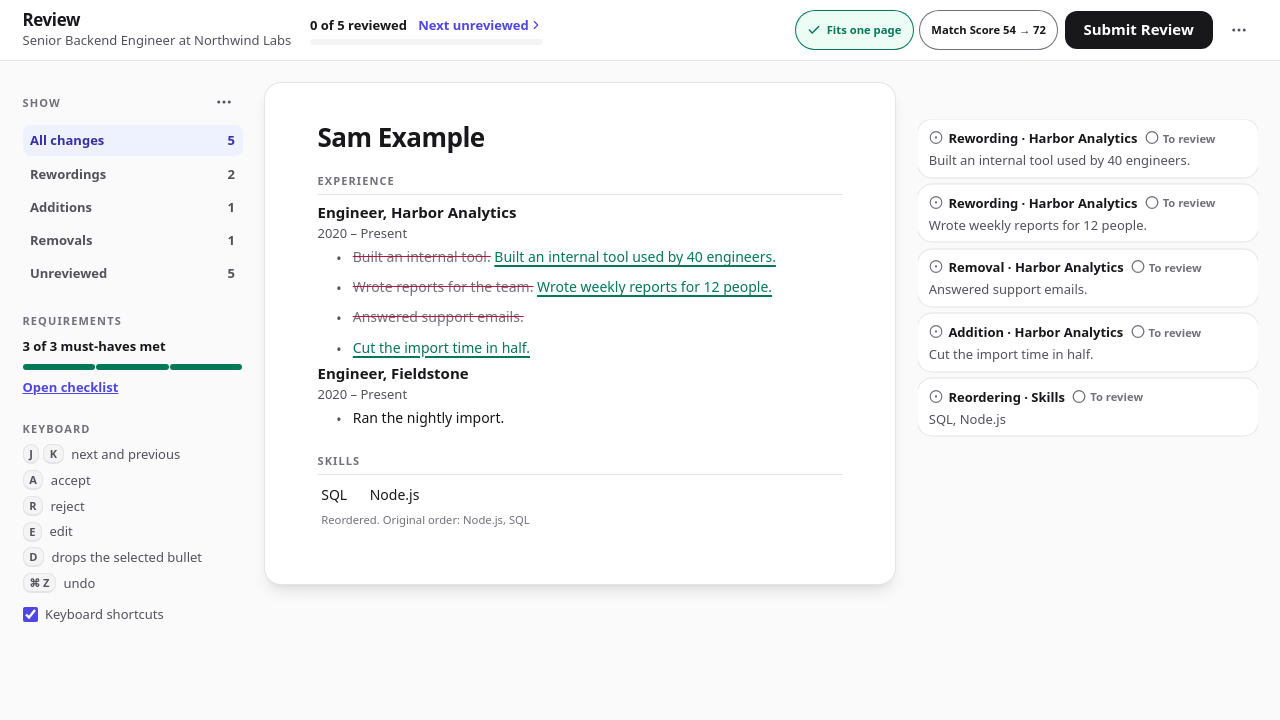
Test case: Review screen: the rail › accepts or rejects everything the filter shows, with an Undo toast
The image size is (1280, 720).
Click the button "Rewordings 2" at (132, 174), box x1=22 y1=158 x2=242 y2=189
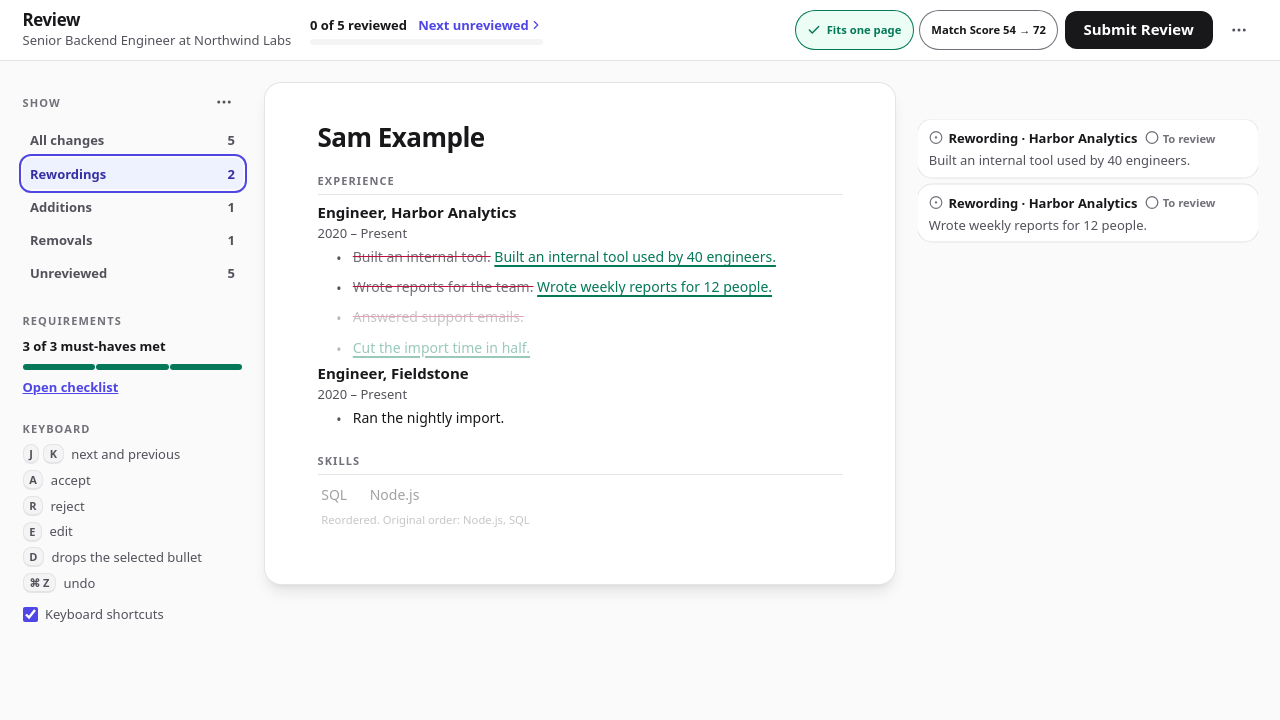
Click the button named "Bulk actions for this filter" at (224, 102), box x1=205 y1=84 x2=242 y2=121
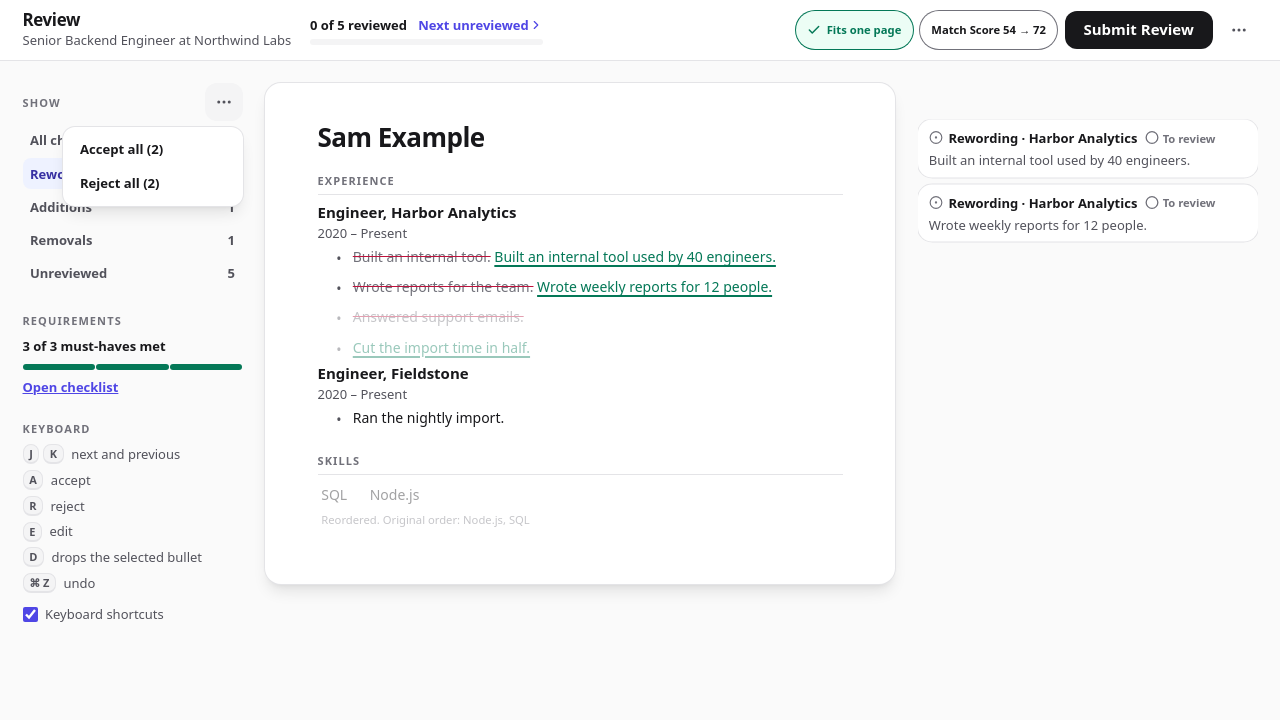
Click the menu item "Reject all (2)" at (120, 183), box x1=80 y1=174 x2=160 y2=192
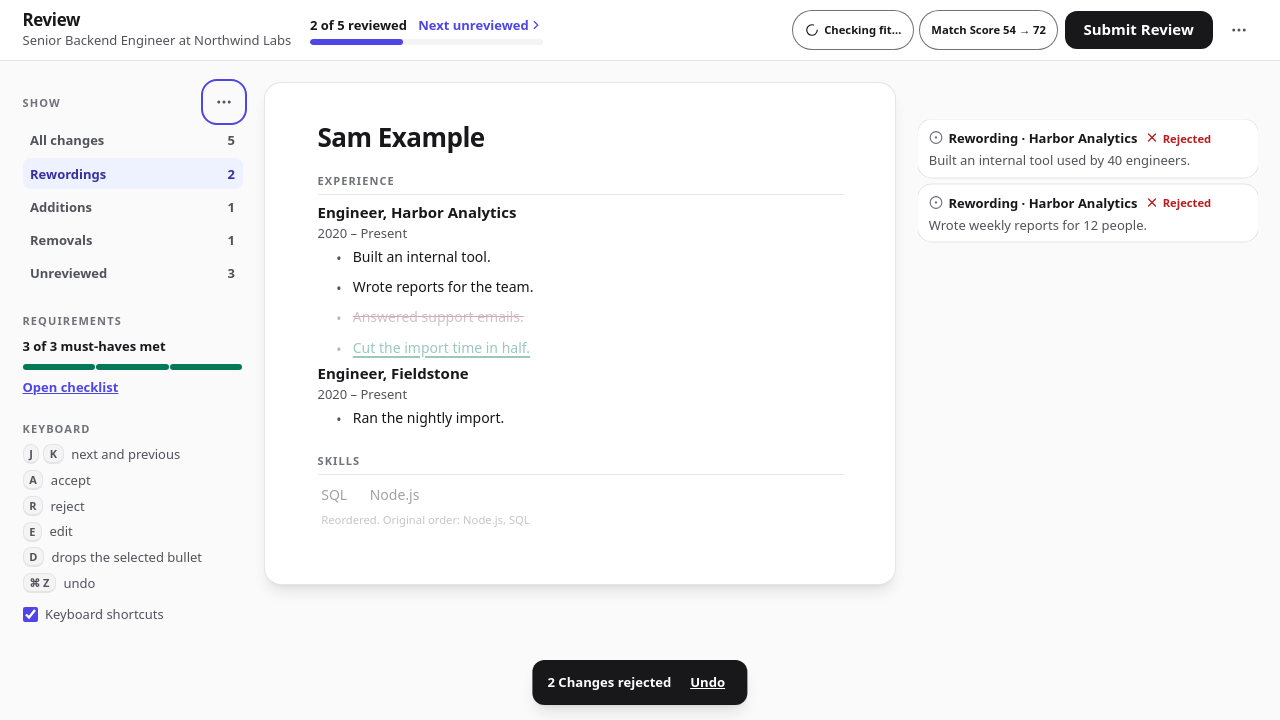
Click the button "All changes 5" at (132, 140), box x1=22 y1=125 x2=242 y2=156
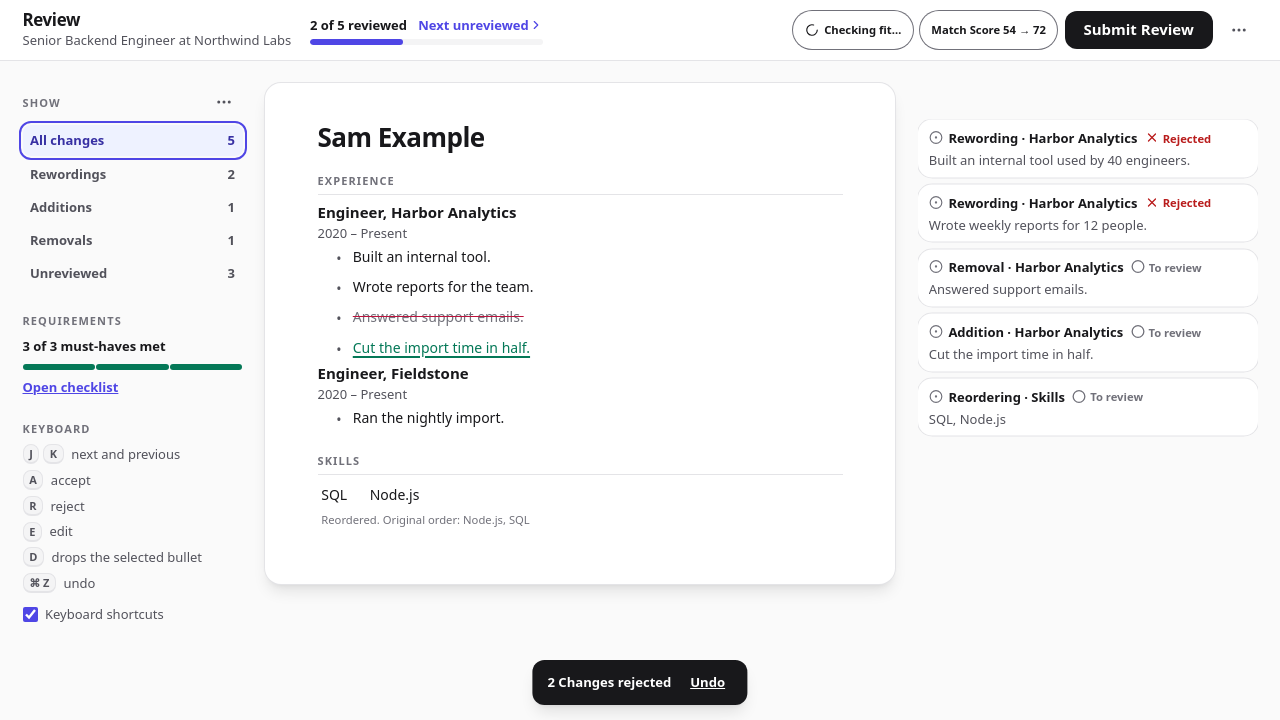
Check: the 1st text "Rejected" is shown, box x1=1145 y1=130 x2=1211 y2=145
Check: the 2nd text "Rejected" is shown, box x1=1145 y1=195 x2=1211 y2=210
Click the button "Undo" at (708, 683), box x1=683 y1=669 x2=733 y2=696
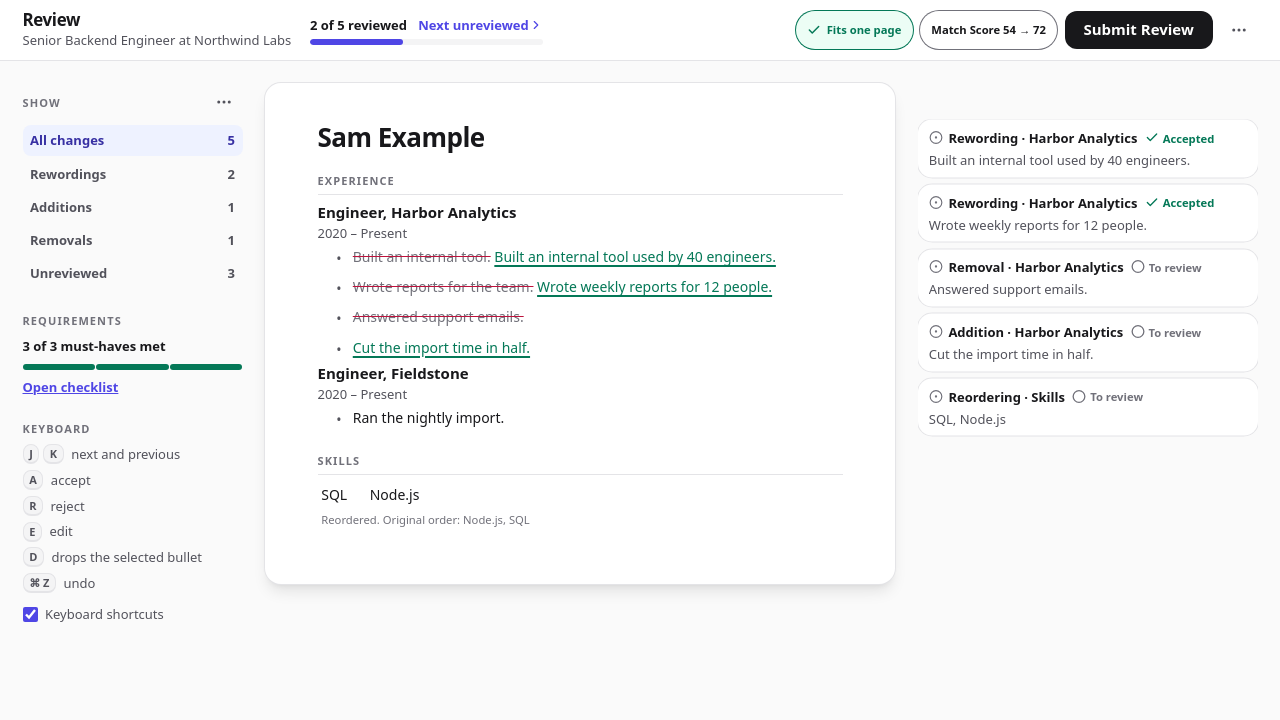
Check: the 1st text "Accepted" is shown, box x1=1145 y1=130 x2=1214 y2=145
